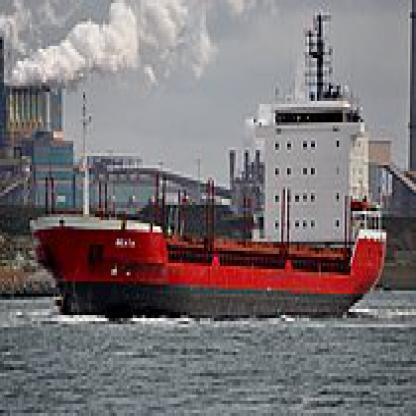Container Ship: (28, 9, 389, 319)
